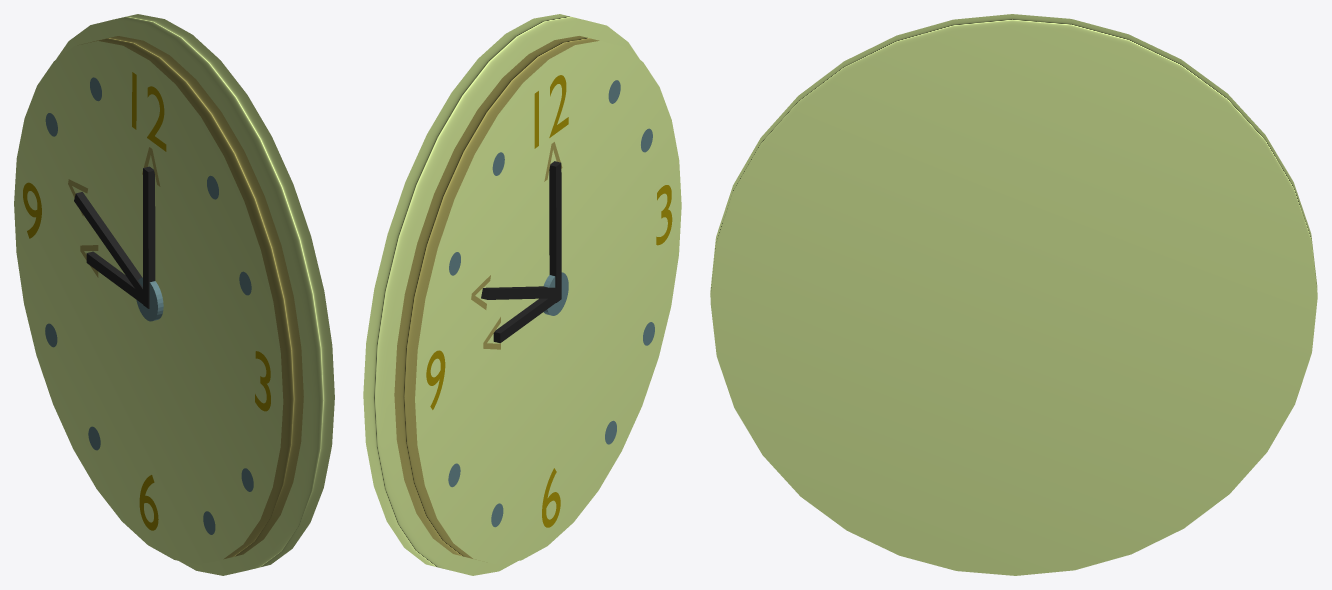
The model's file is Jam Lab Multimedia.fbx.
3 views of the same model, side by side, from view 1: azimuth 30°, elevation 25°; view 2: azimuth 150°, elevation 25°; view 3: azimuth 270°, elevation 25° (orthographic). The views are drawn at different scales.
Parts seen in each view (by area): view 1: Jam, Cylinder.002, Cube.002, Cube.001, Cube, Text, Cylinder.001, Text.001, Text.002, Text.003; view 2: Jam, Cylinder.002, Cube.002, Cube, Cube.001, Text, Text.002, Text.001, Cylinder.001, Text.003; view 3: Cylinder.002.
Boxes of the visible parts, x1=… form: Jam: x1=14, y1=36, x2=303, y2=564; Cylinder.002: x1=56, y1=14, x2=334, y2=575; Cube.002: x1=143, y1=166, x2=155, y2=308; Cube.001: x1=74, y1=192, x2=145, y2=295; Cube: x1=86, y1=251, x2=146, y2=306; Text: x1=132, y1=72, x2=166, y2=151; Cylinder.001: x1=136, y1=277, x2=163, y2=321; Text.001: x1=139, y1=475, x2=158, y2=530; Text.002: x1=23, y1=182, x2=41, y2=238; Text.003: x1=255, y1=351, x2=270, y2=411; Jam: x1=394, y1=36, x2=681, y2=564; Cylinder.002: x1=363, y1=14, x2=639, y2=575; Cube.002: x1=549, y1=161, x2=561, y2=302; Cube: x1=493, y1=290, x2=559, y2=343; Cube.001: x1=481, y1=286, x2=558, y2=299; Text: x1=534, y1=75, x2=568, y2=148; Text.002: x1=426, y1=350, x2=445, y2=409; Text.001: x1=542, y1=468, x2=560, y2=527; Cylinder.001: x1=543, y1=272, x2=568, y2=315; Text.003: x1=656, y1=185, x2=672, y2=245; Cylinder.002: x1=710, y1=14, x2=1317, y2=575.
Bounding box in the file's own units: 73.58 × 710 × 710.
